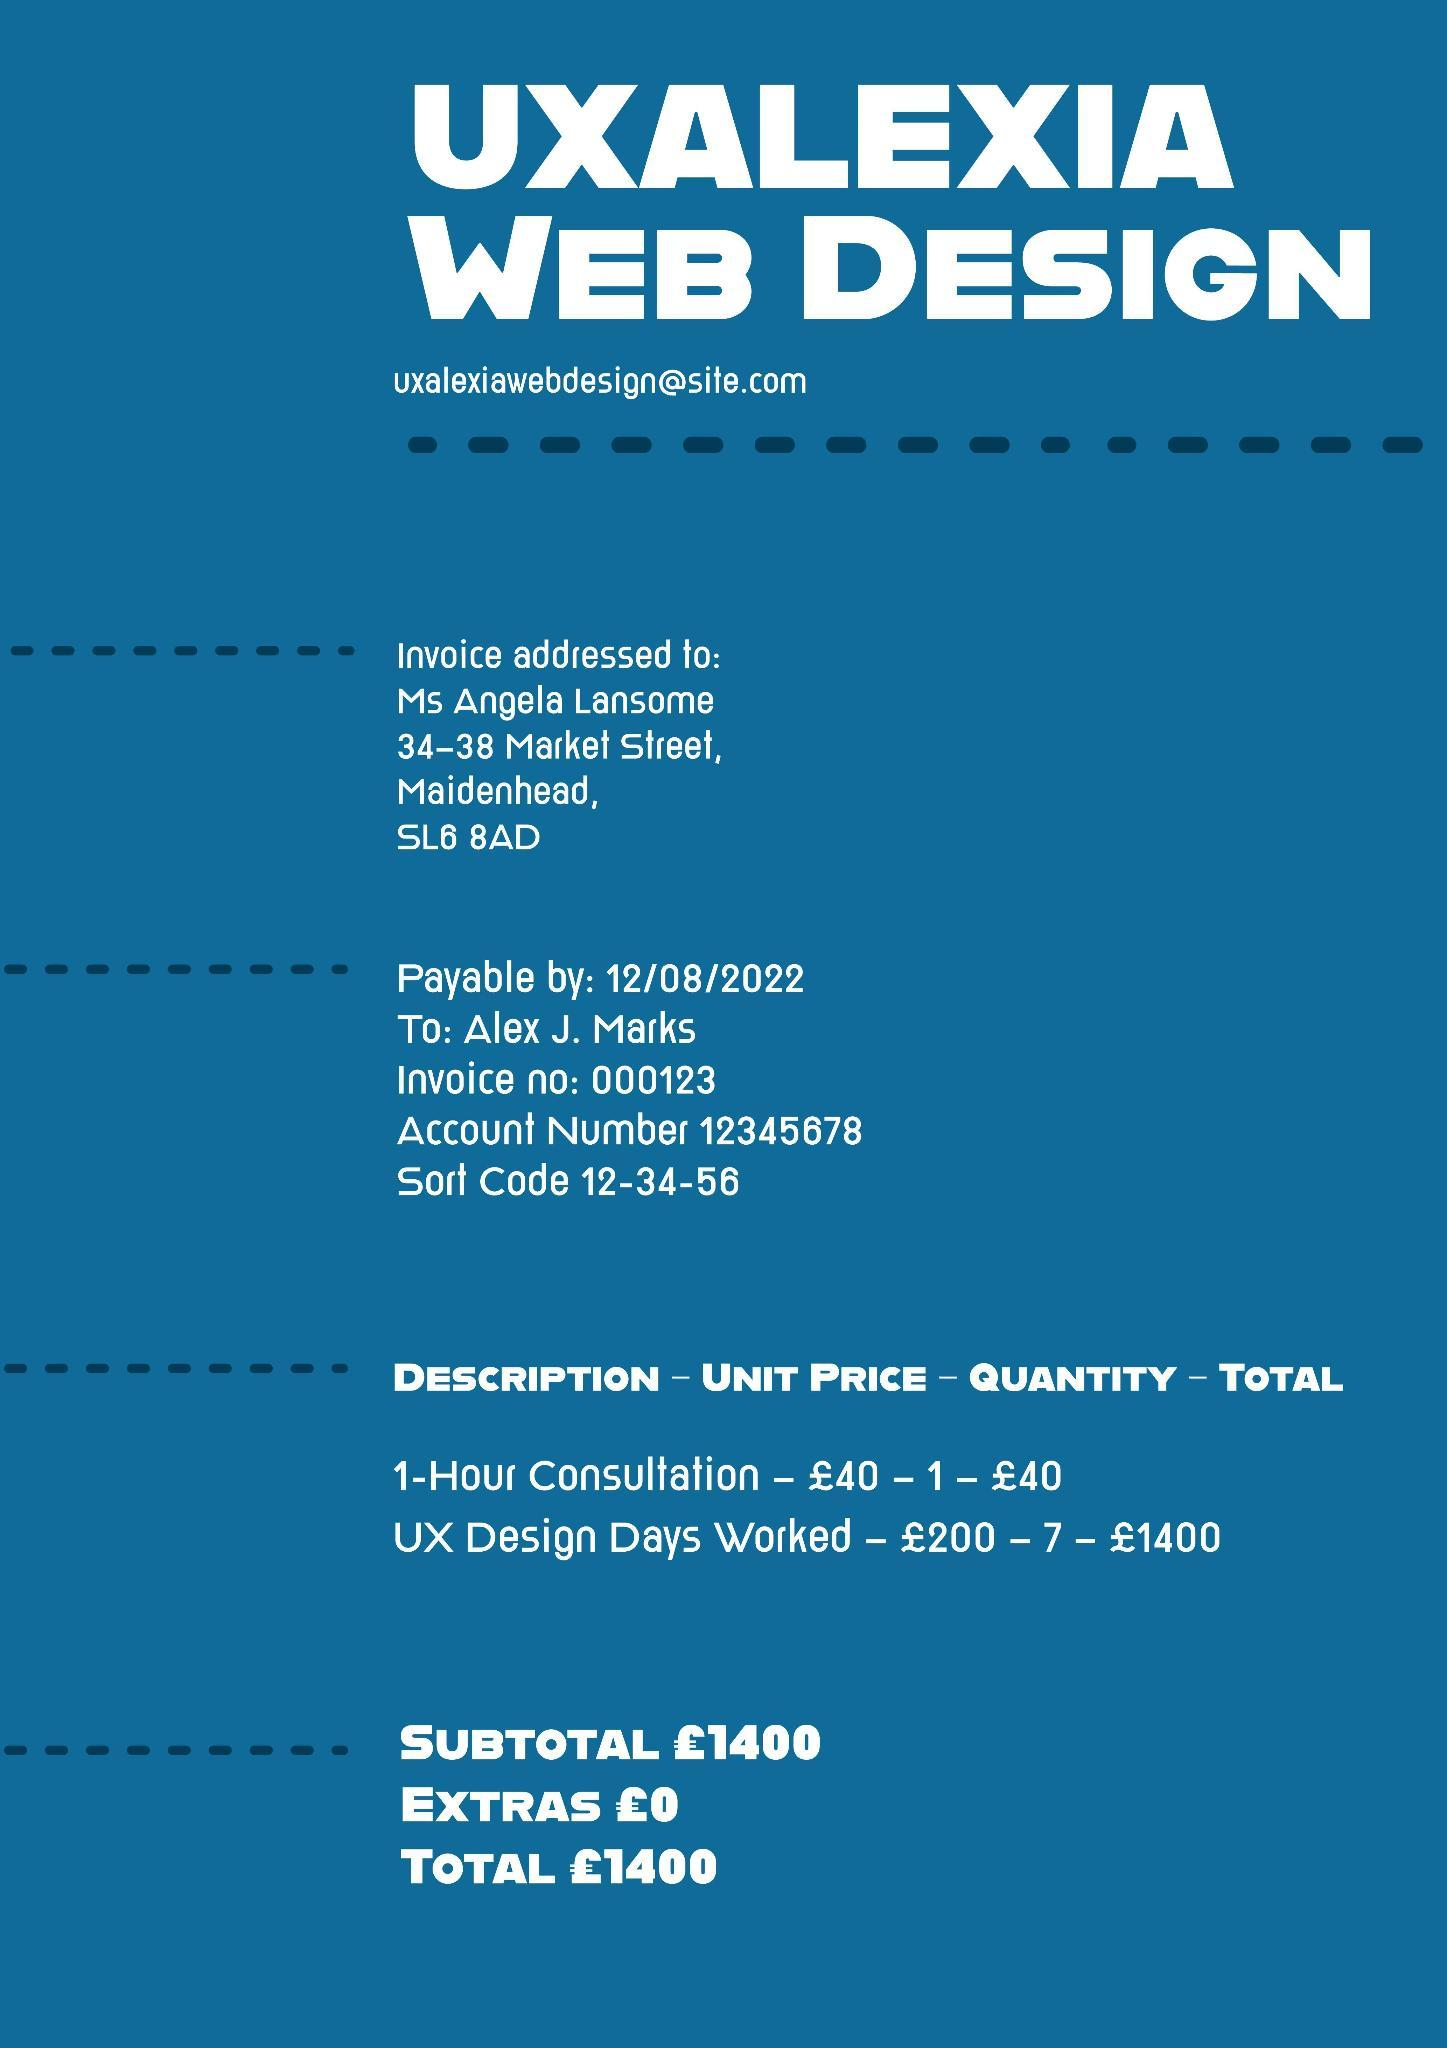ROI: (346, 30, 1402, 355), (355, 1340, 1353, 1585), (373, 947, 882, 1225), (369, 611, 751, 859), (380, 1711, 861, 1906), (353, 354, 884, 410)
